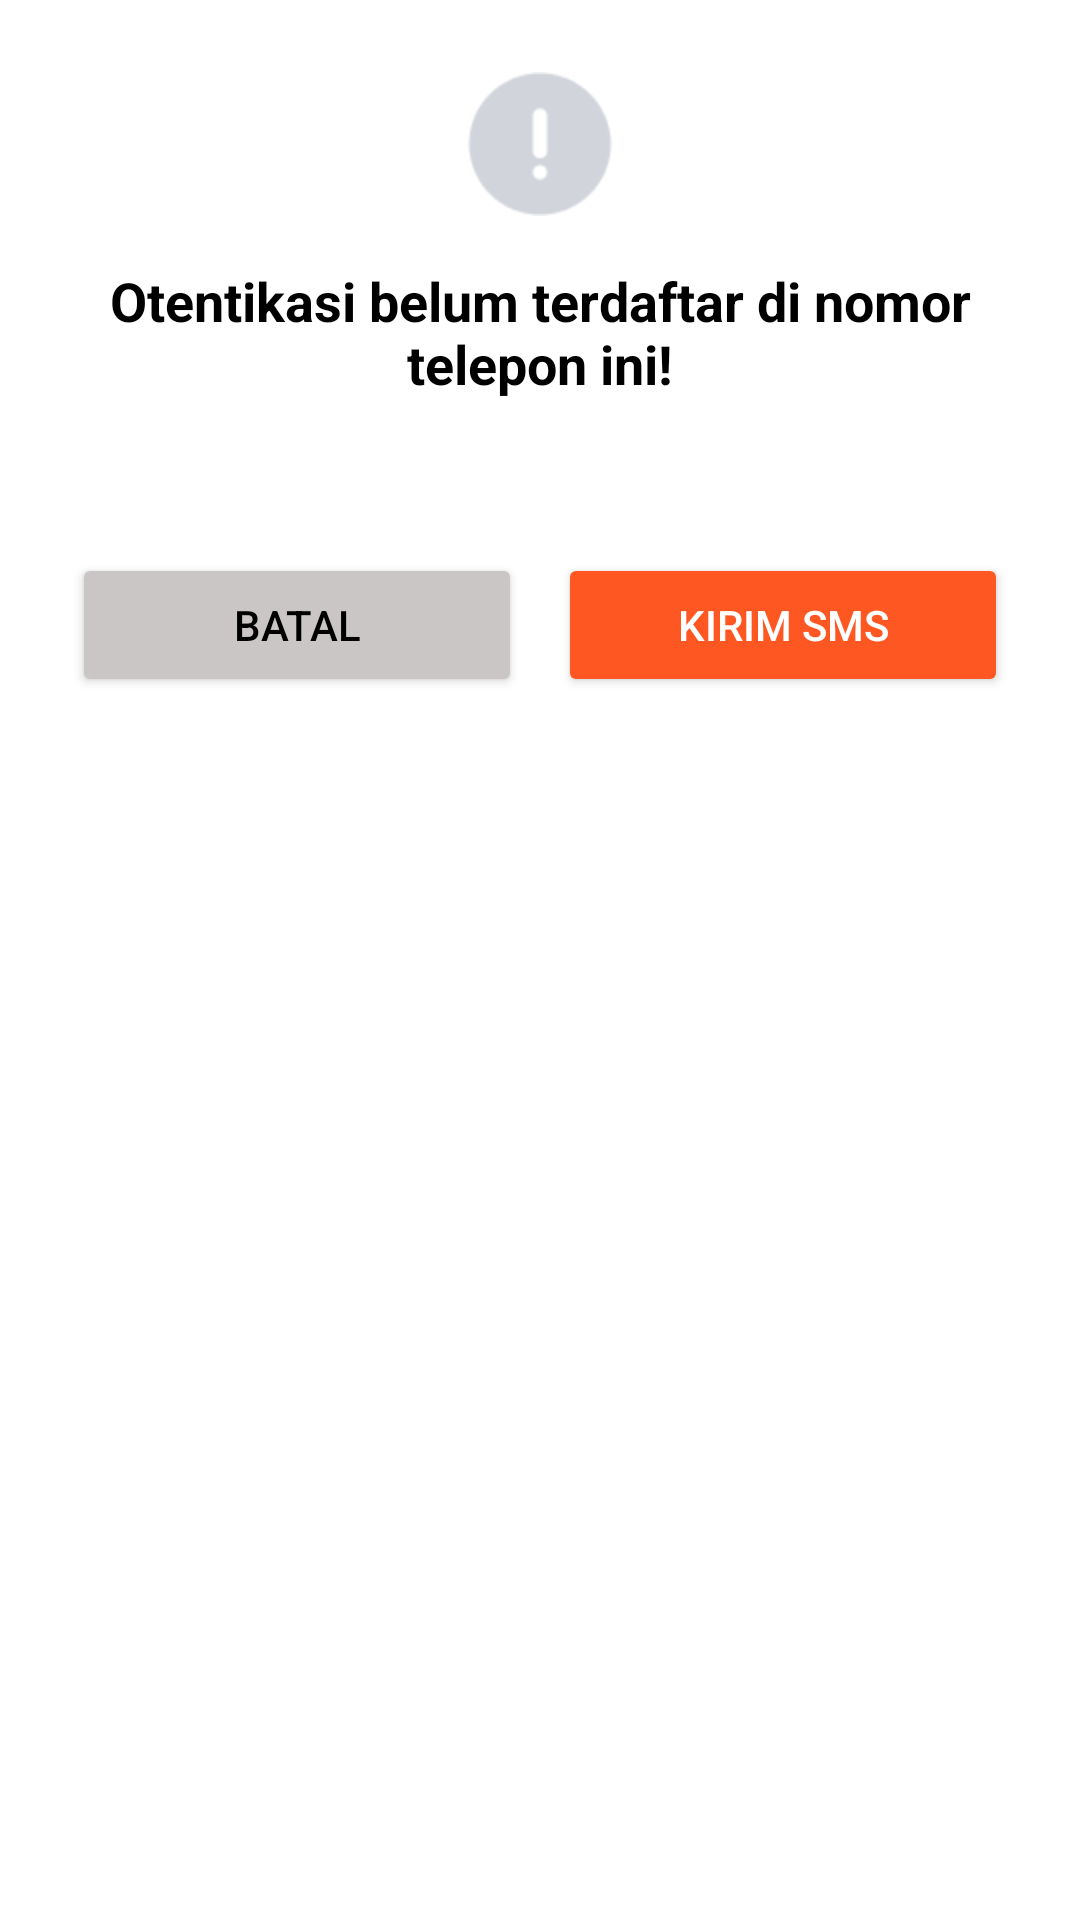

Point at icon controls on the screen. Image size 1080px×1920px, points as point (x, y).
warning: point (540, 144)
